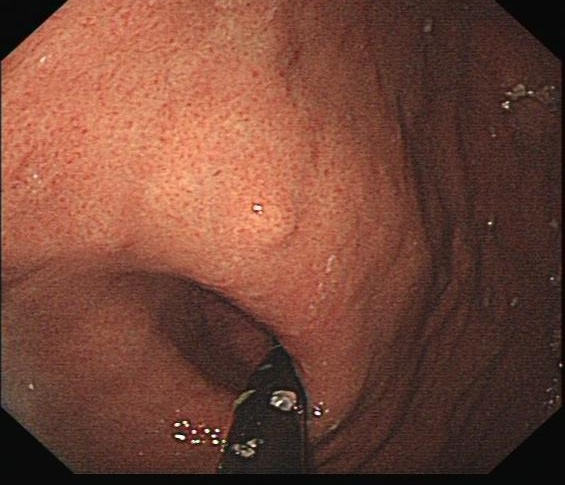Polyp: (249, 190, 301, 242)
